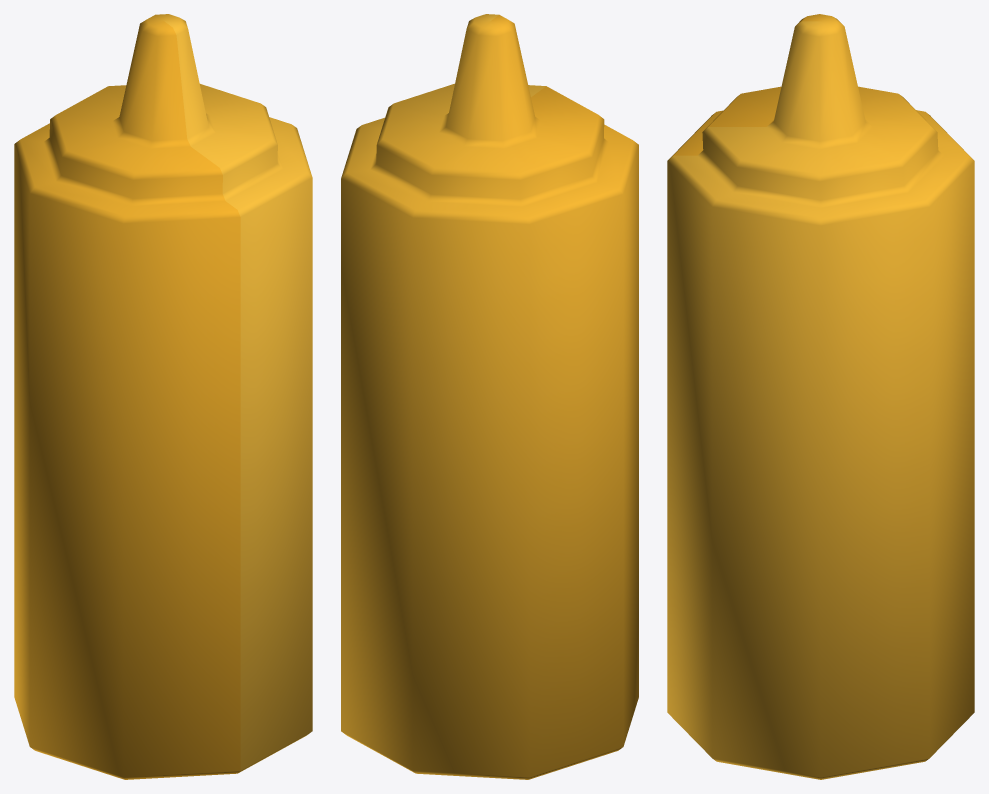
Rendered from Mustard.fbx.
3 renders of one model, left to right at view 1: azimuth 30°, elevation 25°; view 2: azimuth 150°, elevation 25°; view 3: azimuth 270°, elevation 25°, orthographic.
Visible parts, largest first — view 1: Mustard; view 2: Mustard; view 3: Mustard.
Part boxes in pixels (left/top/right/bottom): Mustard: left=14, top=14, right=312, bottom=779; Mustard: left=341, top=14, right=638, bottom=779; Mustard: left=667, top=14, right=974, bottom=779.
Size of the model in its own units: 0.1511 by 0.1511 by 0.3775.
